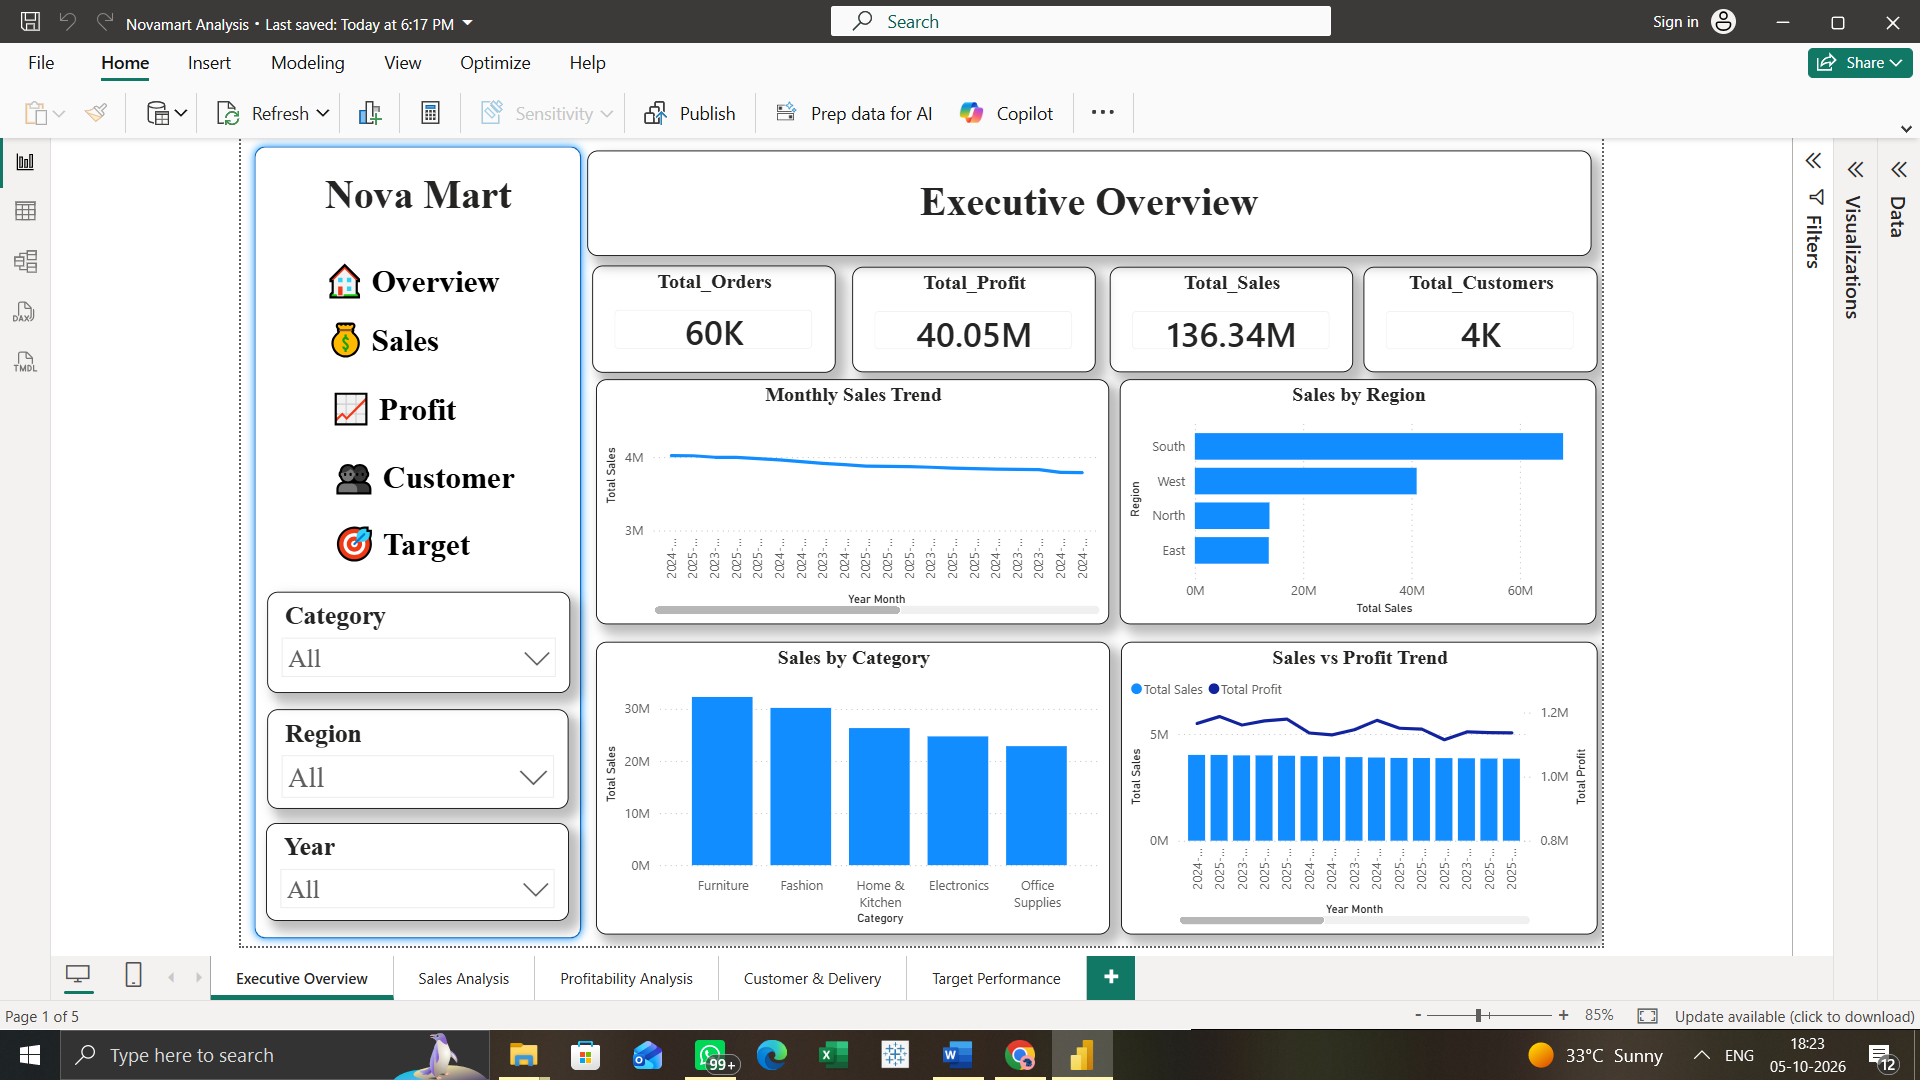

This screenshot's page, from the dashboard's own definition file:
{"tool":"powerbi","page":{"name":"Executive Overview","canvas":[1280,760],"ordinal":0},"visuals":[{"type":"textbox","box":[325.7,11.5,943.9,99.4],"z":0,"group":"g1"},{"type":"cardVisual","title":"Total_Sales","fields":{"Data":["_Measures.Total Sales"]},"box":[816.6,121,228.5,98.9],"z":0},{"type":"shape","box":[5,0,323.1,760.3],"z":1000,"group":"g1"},{"type":"cardVisual","title":"Total_Orders","fields":{"Data":["_Measures.Total Orders"]},"box":[330.7,119.3,228.5,100.6],"z":1000},{"type":"textbox","box":[73.9,26.7,200,55],"z":2000,"group":"g1"},{"type":"cardVisual","title":"Total_Profit","fields":{"Data":["_Measures.Total Profit"]},"box":[574.5,121,228.5,98.9],"z":2000},{"type":"actionButton","box":[68.9,96.7,186.7,73.3],"z":3000,"group":"g1"},{"type":"cardVisual","title":"Total_Customers","fields":{"Data":["_Measures.Total Customers"]},"box":[1055.3,121,219.9,98.9],"z":3000},{"type":"actionButton","box":[70,156.7,186.7,63.3],"z":4000,"group":"g1"},{"type":"lineChart","title":"Monthly Sales Trend","fields":{"Y":["_Measures.Total Sales"],"Category":["DateTable.Year Month"]},"box":[334.2,226.7,482.5,230.2],"z":4000},{"type":"actionButton","box":[58.3,220,171.7,66.7],"z":5000,"group":"g1"},{"type":"clusteredBarChart","title":"Sales by Region","fields":{"Category":["Geography.Region"],"Y":["_Measures.Total Sales"]},"box":[826.5,226.7,448.3,230.5],"z":5000},{"type":"actionButton","box":[71.7,286.7,200,60],"z":6000,"group":"g1"},{"type":"clusteredColumnChart","title":"Sales by Category","fields":{"Category":["Products.Category"],"Y":["_Measures.Total Sales"]},"box":[333.3,473.3,483.3,275],"z":6000},{"type":"actionButton","box":[75,348.3,151.7,63.3],"z":7000,"group":"g1"},{"type":"lineClusteredColumnComboChart","title":"Sales vs Profit Trend","fields":{"Category":["DateTable.Year Month"],"Y":["_Measures.Total Sales"],"Y2":["_Measures.Total Profit"]},"box":[826.7,473.3,448.3,275],"z":7000},{"type":"group","id":"g1","title":"Group 1","box":[5,0,1264.6,760.3],"z":8000},{"type":"slicer","fields":{"Values":["Geography.Region"]},"box":[25,536.7,283.3,93.3],"z":9000},{"type":"slicer","fields":{"Values":["Products.Category"]},"box":[25,426.7,285,95],"z":10000},{"type":"slicer","fields":{"Values":["DateTable.Year"]},"box":[23.3,643.3,285,91.7],"z":11000}]}

Visuals, with their boxes on the page's 1280x760 design canvas (x1, y1, x2, y2). These are canvas units, not pixel positions in the 1920x1080 screenshot, which may show the page scaled, cropped or inside an application window:
textbox: l=326, t=12, r=1270, b=111
"Total_Sales" cardVisual: l=817, t=121, r=1045, b=220
shape: l=5, t=0, r=328, b=760
"Total_Orders" cardVisual: l=331, t=119, r=559, b=220
textbox: l=74, t=27, r=274, b=82
"Total_Profit" cardVisual: l=574, t=121, r=803, b=220
actionButton: l=69, t=97, r=256, b=170
"Total_Customers" cardVisual: l=1055, t=121, r=1275, b=220
actionButton: l=70, t=157, r=257, b=220
"Monthly Sales Trend" lineChart: l=334, t=227, r=817, b=457
actionButton: l=58, t=220, r=230, b=287
"Sales by Region" clusteredBarChart: l=826, t=227, r=1275, b=457
actionButton: l=72, t=287, r=272, b=347
"Sales by Category" clusteredColumnChart: l=333, t=473, r=817, b=748
actionButton: l=75, t=348, r=227, b=412
"Sales vs Profit Trend" lineClusteredColumnComboChart: l=827, t=473, r=1275, b=748
"Group 1" group: l=5, t=0, r=1270, b=760
slicer - Geography.Region: l=25, t=537, r=308, b=630
slicer - Products.Category: l=25, t=427, r=310, b=522
slicer - DateTable.Year: l=23, t=643, r=308, b=735
